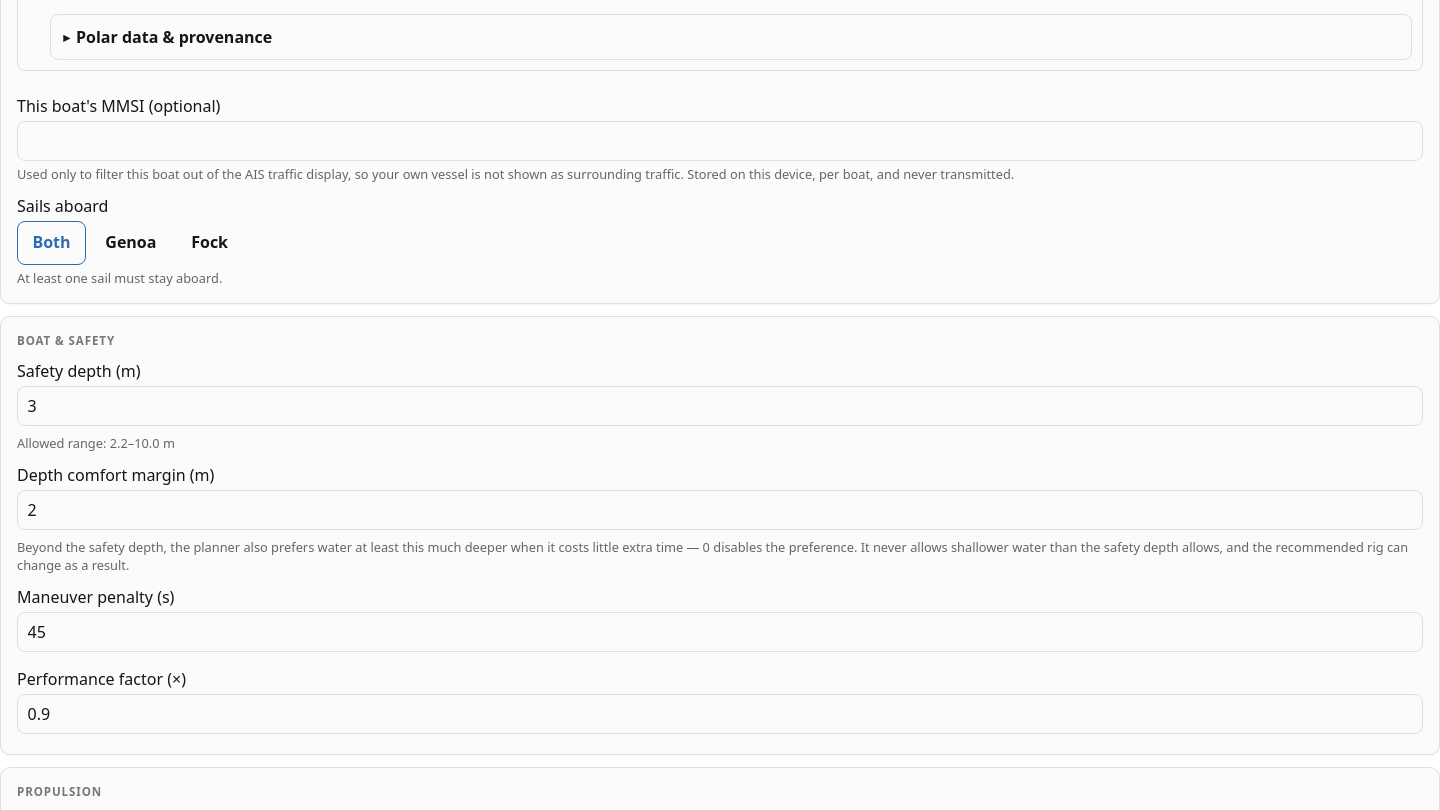
Scenario: SettingsPanel (#299 Boat tab) › commits safety depth on blur and clamps to its 2.2-10 bounds (same SAFETY_DEPTH_FIELD spec as the inline field)
(page scrolled)
Replace the text in the number field labelled "Safety depth (m)" with "1" at coordinates (720, 406), box x1=17 y1=386 x2=1423 y2=426
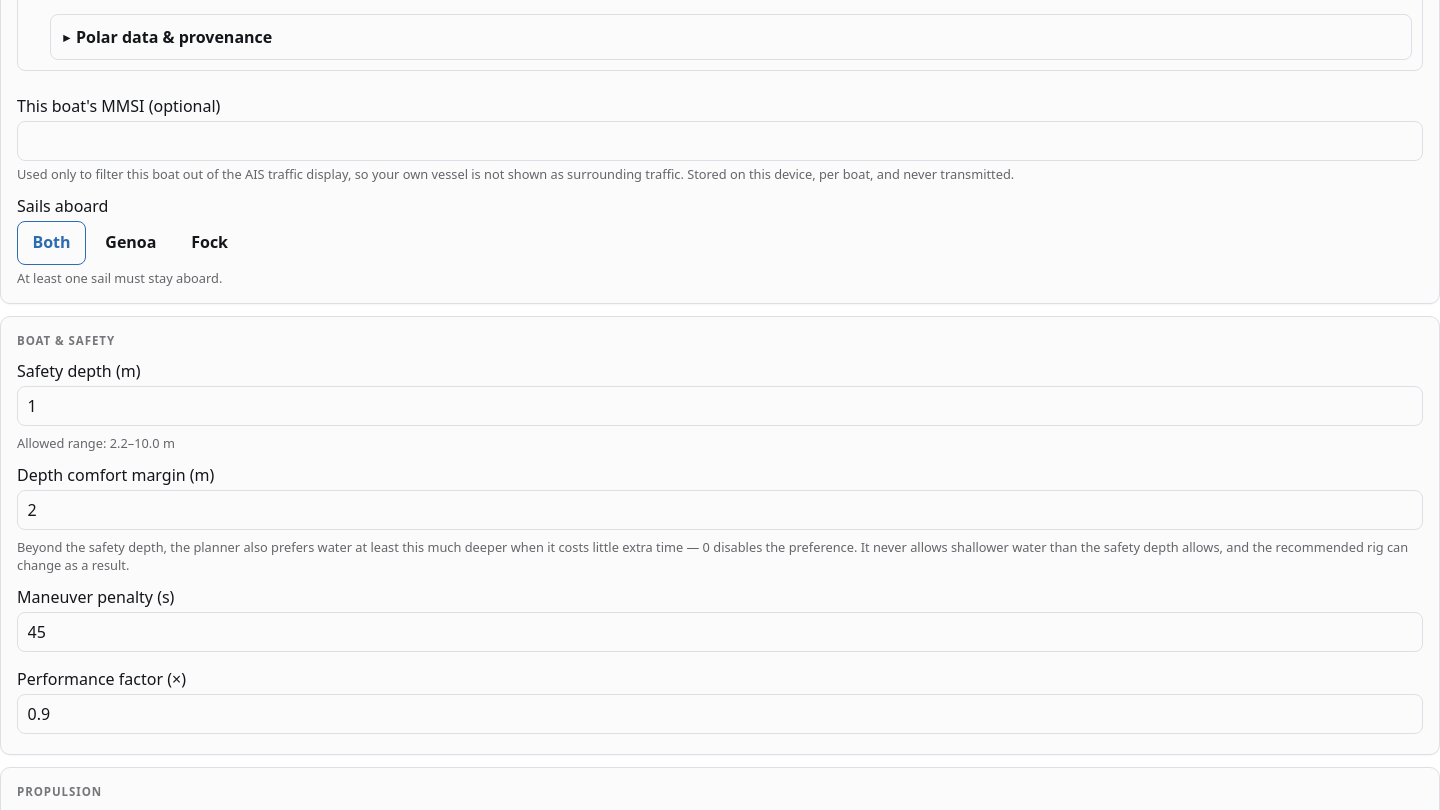
Leave the number field labelled "Safety depth (m)", box x1=17 y1=386 x2=1423 y2=426
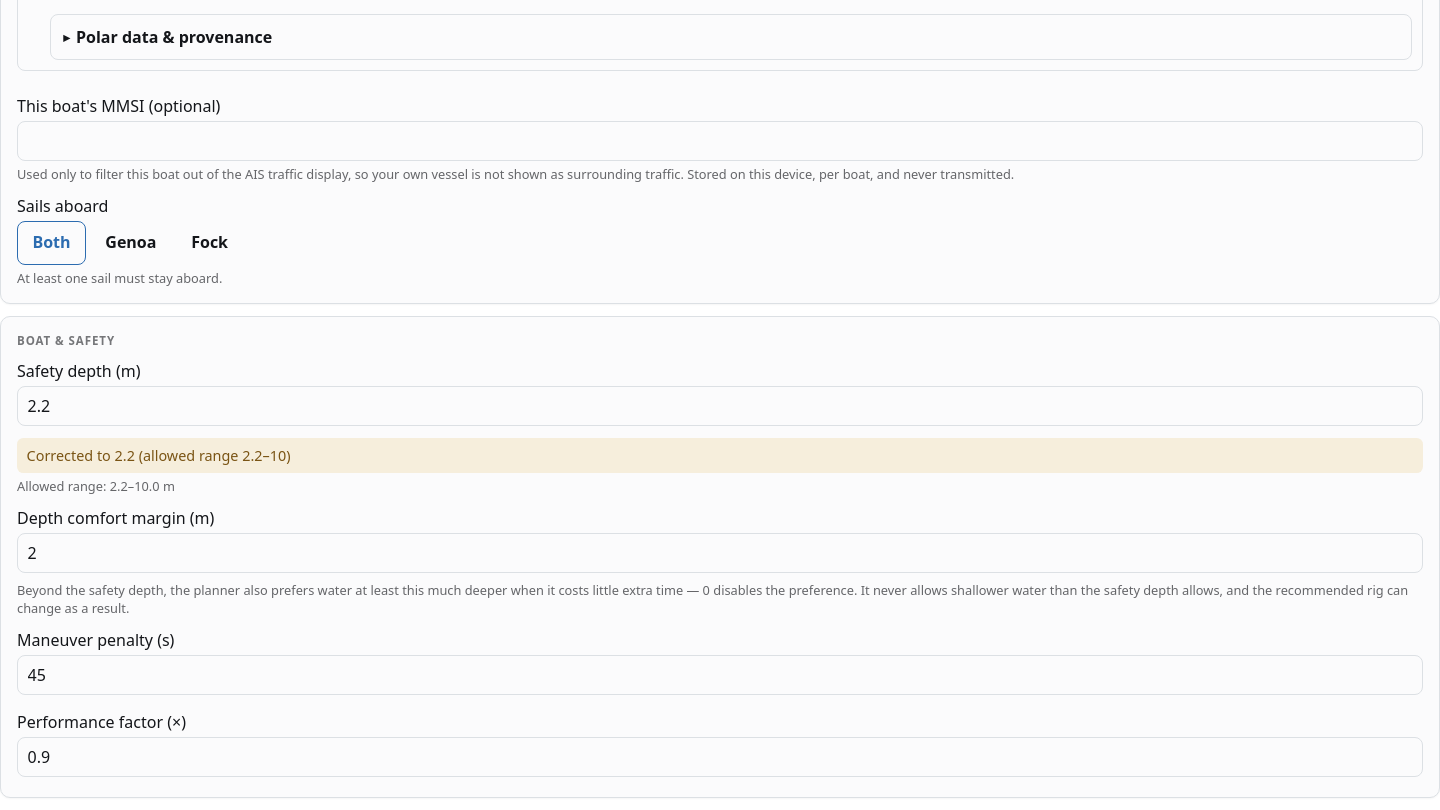
Result: the number field labelled "Safety depth (m)" holds "2.2" at x1=17 y1=386 x2=1423 y2=426
